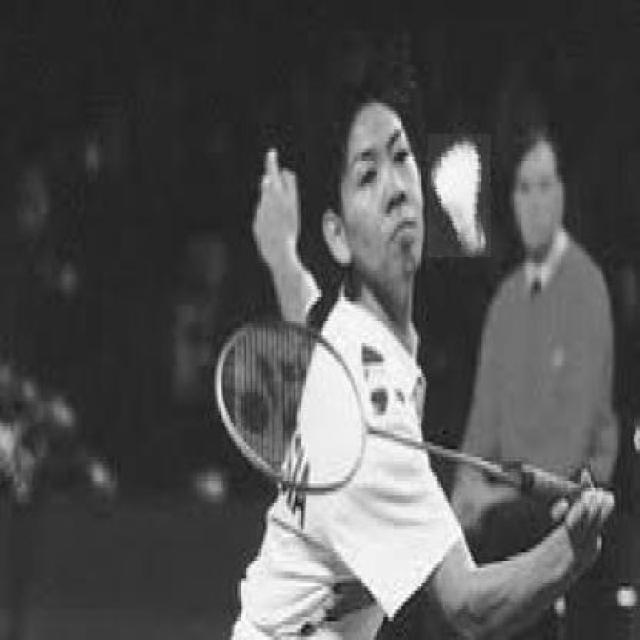Shuttlecock: (428, 134, 490, 257)
